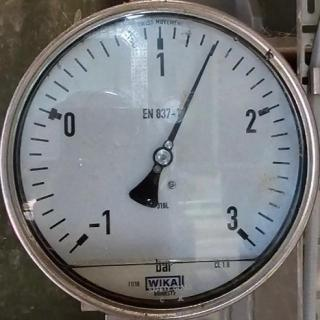gauge: (0, 0, 320, 320), (70, 218, 101, 255), (224, 213, 256, 247), (152, 146, 174, 168), (208, 41, 218, 53)
